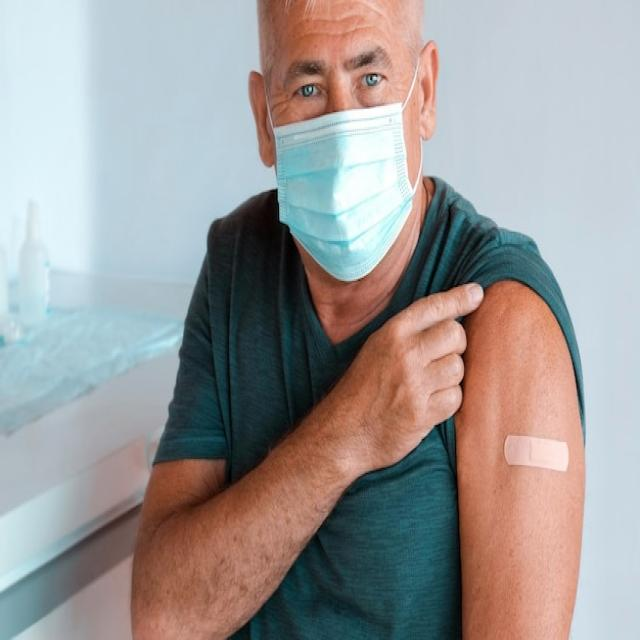adult: (136, 0, 587, 640)
